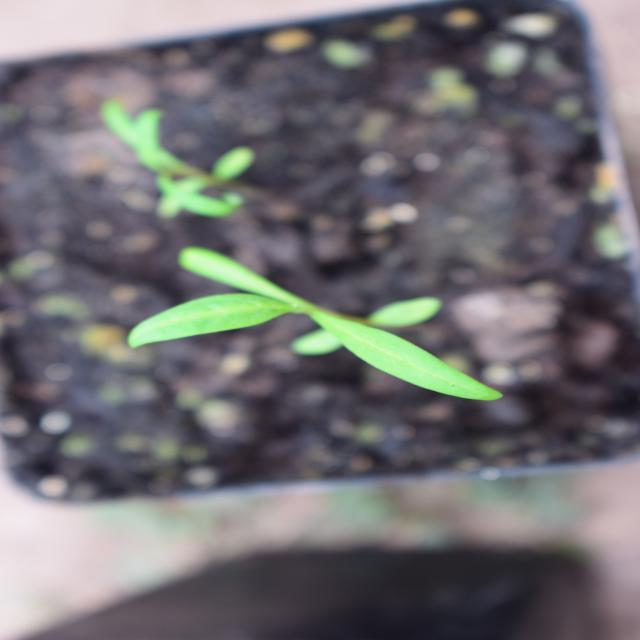white_smart_weed: (204, 128, 433, 508)
